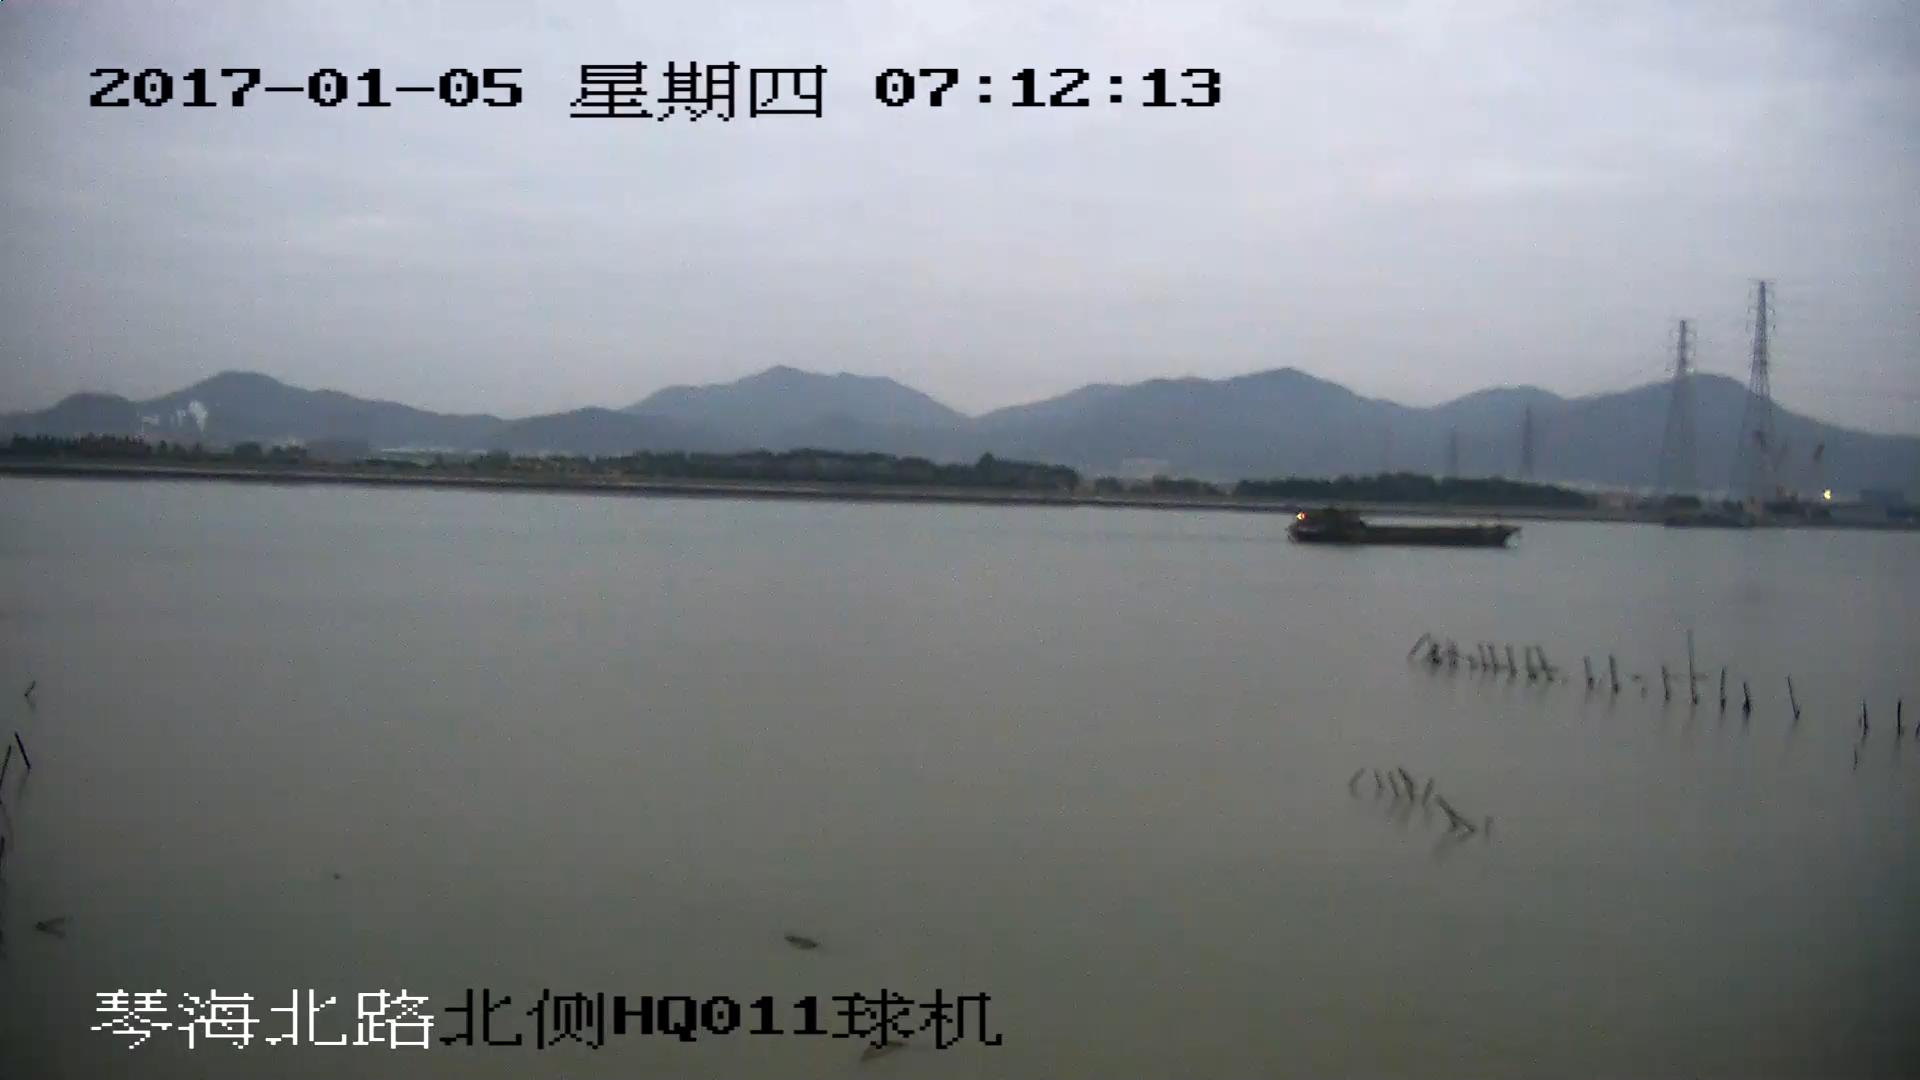bulk cargo carrier: (1287, 508, 1519, 549)
